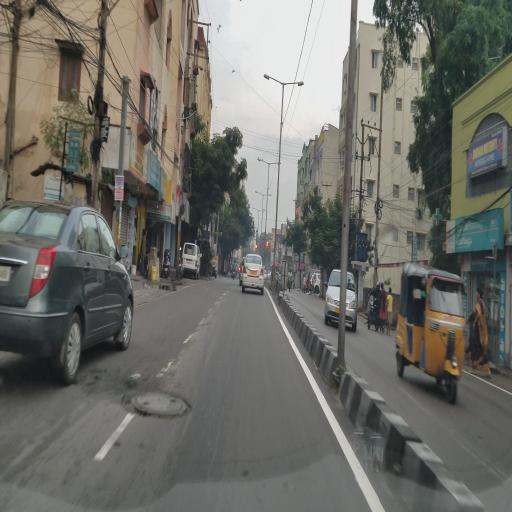street_light_0: (280, 71, 306, 93), (260, 69, 286, 91), (252, 149, 268, 169), (268, 150, 283, 170), (253, 188, 264, 204), (262, 188, 274, 202)
